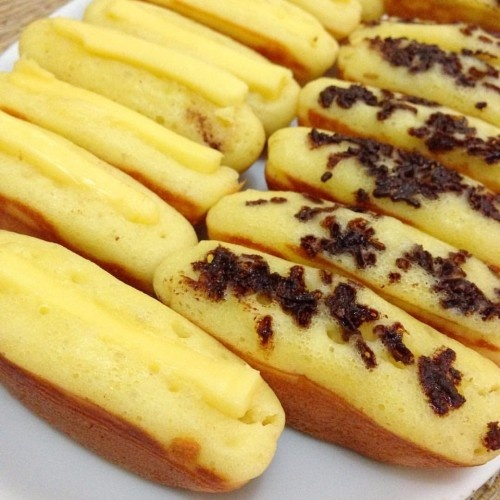pukis: (5, 241, 290, 487)
